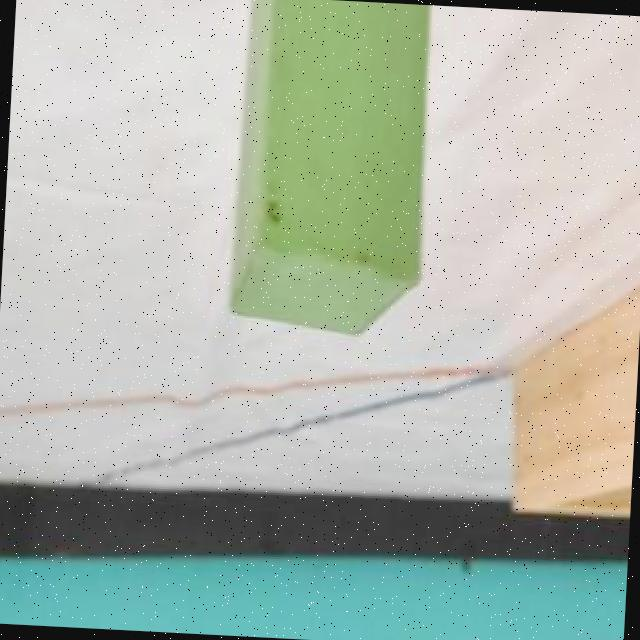greenbox: (223, 0, 434, 344)
